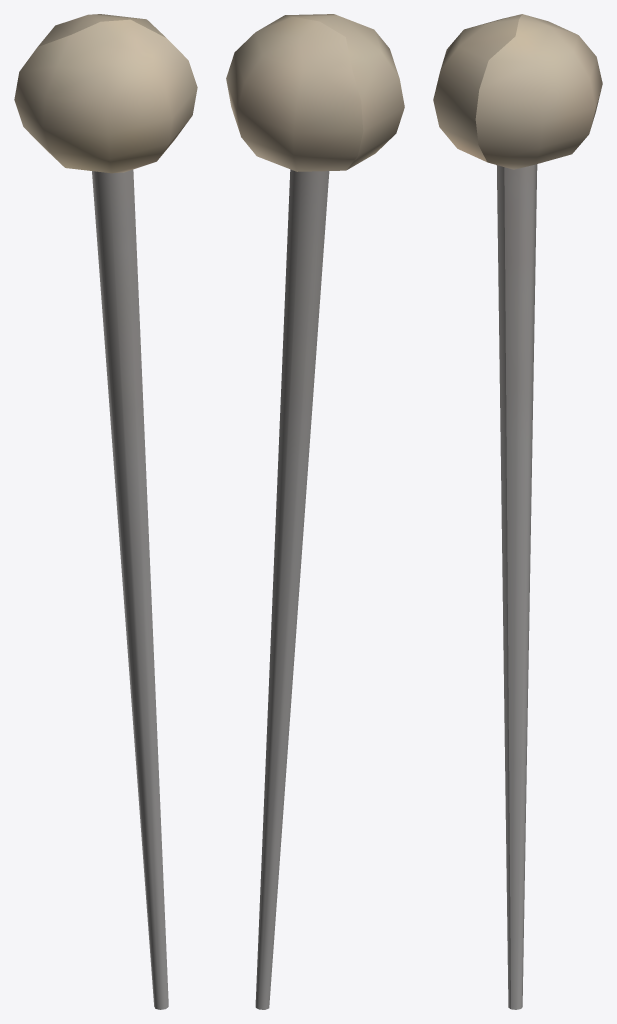
Rendered from SM_Farm_Pin_01.fbx.
3 renders of one model, left to right at view 1: azimuth 30°, elevation 25°; view 2: azimuth 150°, elevation 25°; view 3: azimuth 270°, elevation 25°, orthographic. The views are drawn at different scales.
Parts seen in each view (by area): view 1: SM_Farm_Pin_01_LOD0; view 2: SM_Farm_Pin_01_LOD0; view 3: SM_Farm_Pin_01_LOD0.
Part boxes in pixels (left/top/right/bottom): SM_Farm_Pin_01_LOD0: left=14, top=14, right=197, bottom=1009; SM_Farm_Pin_01_LOD0: left=226, top=14, right=404, bottom=1009; SM_Farm_Pin_01_LOD0: left=433, top=14, right=602, bottom=1009.
Size of the model in its own units: 2.3 by 14.41 by 2.31.
